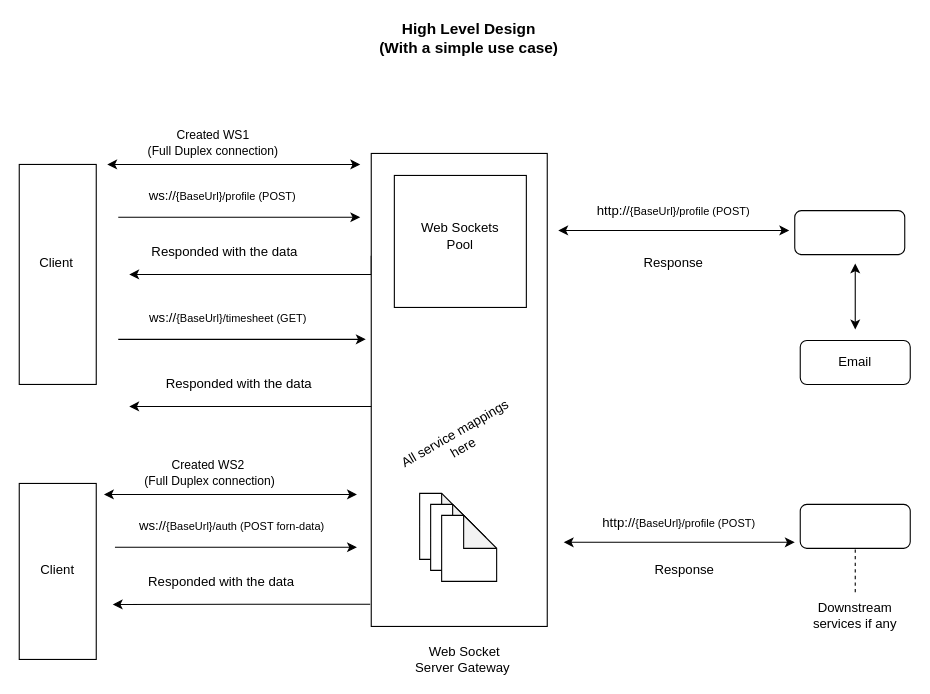
This 930x694 diagram has some shape labels left out. Here are the shapes that lost their labels. From the top down, the centre of each, then its label:
At point 849,232: "Profile".
At point 854,525: "Time Sheet".
